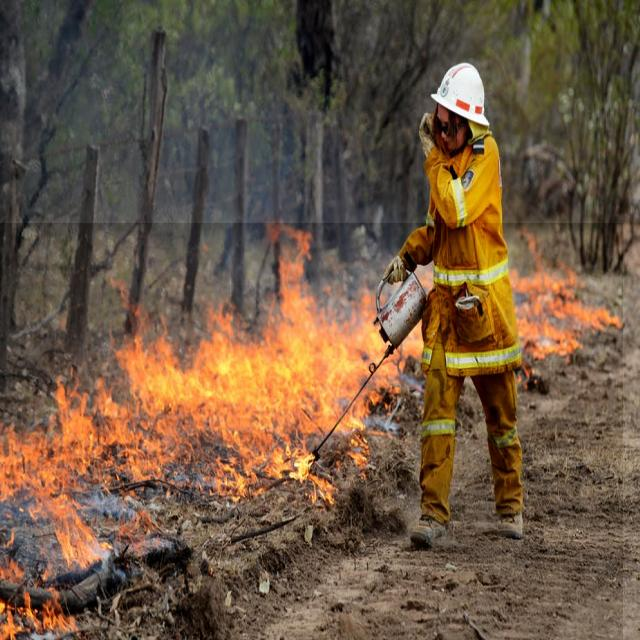Fire: (0, 223, 623, 640)
